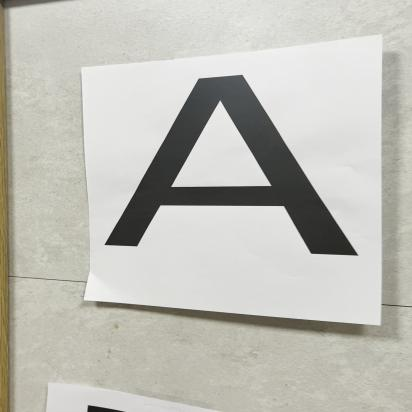seat: (101, 70, 388, 286)
